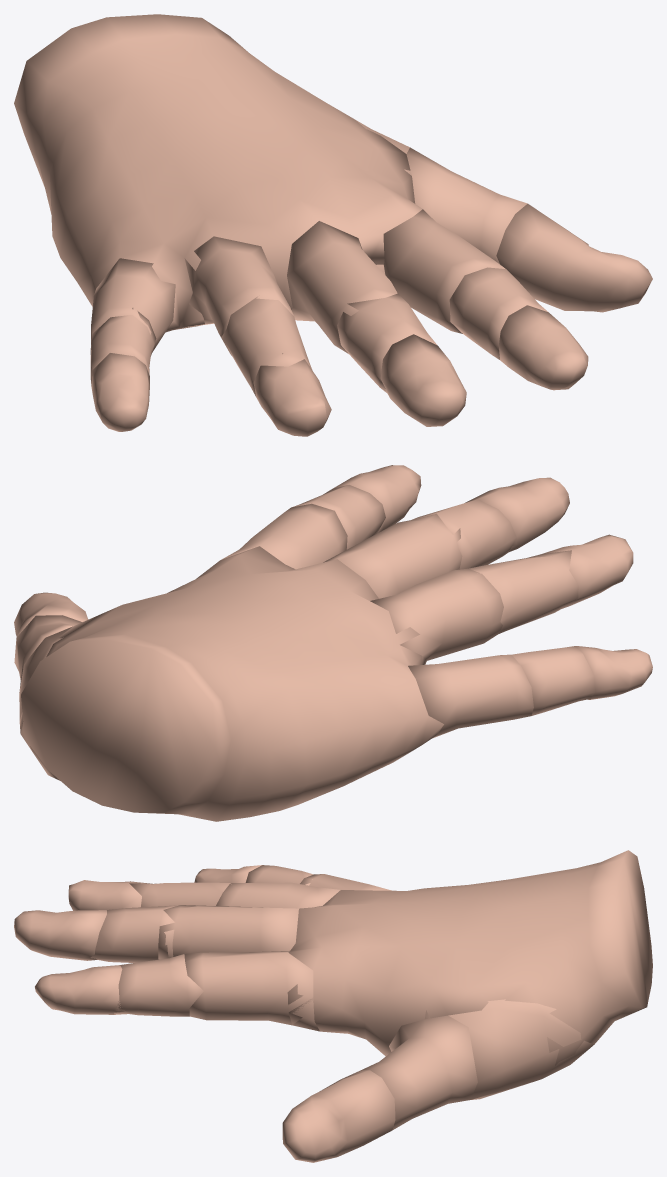
File: mano.glb
The picture shows the model from 3 angles, top to bottom: view 1: azimuth 30°, elevation 25°; view 2: azimuth 150°, elevation 25°; view 3: azimuth 270°, elevation 25°; orthographic projection. The views are drawn at different scales.
Visible parts, largest first — view 1: visual__right_palm__0, visual__right_thumb3__0, visual__right_middle1z__0, visual__right_index1z__0, visual__right_thumb2z__0, visual__right_ring1z__0, visual__right_middle3__0, visual__right_index3__0, visual__right_ring2__0, visual__right_index2__0, visual__right_pinky1z__0, visual__right_middle2__0 (+3 smaller); view 2: visual__right_palm__0, visual__right_ring1z__0, visual__right_pinky1z__0, visual__right_middle1z__0, visual__right_ring2__0, visual__right_index1z__0, visual__right_pinky2__0, visual__right_middle3__0, visual__right_middle2__0, visual__right_ring3__0, visual__right_pinky3__0, visual__right_index3__0 (+4 smaller); view 3: visual__right_palm__0, visual__right_index1z__0, visual__right_thumb1z__0, visual__right_thumb2z__0, visual__right_thumb3__0, visual__right_middle1z__0, visual__right_index2__0, visual__right_middle3__0, visual__right_middle2__0, visual__right_index3__0, visual__right_ring1z__0, visual__right_ring2__0 (+4 smaller).
Part boxes in pixels (x1,y1,x2,y2): visual__right_palm__0: (14,14,422,332); visual__right_thumb3__0: (496,203,652,312); visual__right_middle1z__0: (287,221,397,353); visual__right_index1z__0: (383,209,505,333); visual__right_thumb2z__0: (406,147,527,264); visual__right_ring1z__0: (184,236,293,355); visual__right_middle3__0: (380,334,466,426); visual__right_index3__0: (498,305,588,390); visual__right_ring2__0: (221,296,312,396); visual__right_index2__0: (449,267,548,359); visual__right_pinky1z__0: (90,258,175,354); visual__right_middle2__0: (337,293,436,392); visual__right_palm__0: (19,546,443,821); visual__right_ring1z__0: (370,568,503,664); visual__right_pinky1z__0: (408,654,533,738); visual__right_middle1z__0: (323,513,462,598); visual__right_ring2__0: (469,550,578,633); visual__right_index1z__0: (221,503,347,569); visual__right_pinky2__0: (500,646,594,715); visual__right_middle3__0: (465,477,569,551); visual__right_middle2__0: (412,499,517,569); visual__right_ring3__0: (541,534,633,605); visual__right_pinky3__0: (576,646,652,699); visual__right_index3__0: (333,465,421,533); visual__right_palm__0: (287,850,652,1065); visual__right_index1z__0: (184,950,319,1031); visual__right_thumb1z__0: (389,999,594,1099); visual__right_thumb2z__0: (361,1015,477,1130); visual__right_thumb3__0: (282,1070,395,1162); visual__right_middle1z__0: (158,905,298,959); visual__right_index2__0: (114,954,203,1016); visual__right_middle3__0: (14,910,106,960); visual__right_middle2__0: (90,905,179,962); visual__right_index3__0: (35,965,125,1014); visual__right_ring1z__0: (216,882,340,908); visual__right_ring2__0: (129,882,231,907).
Bounding box in the file's own units: 0.1677 × 0.0613 × 0.193.
